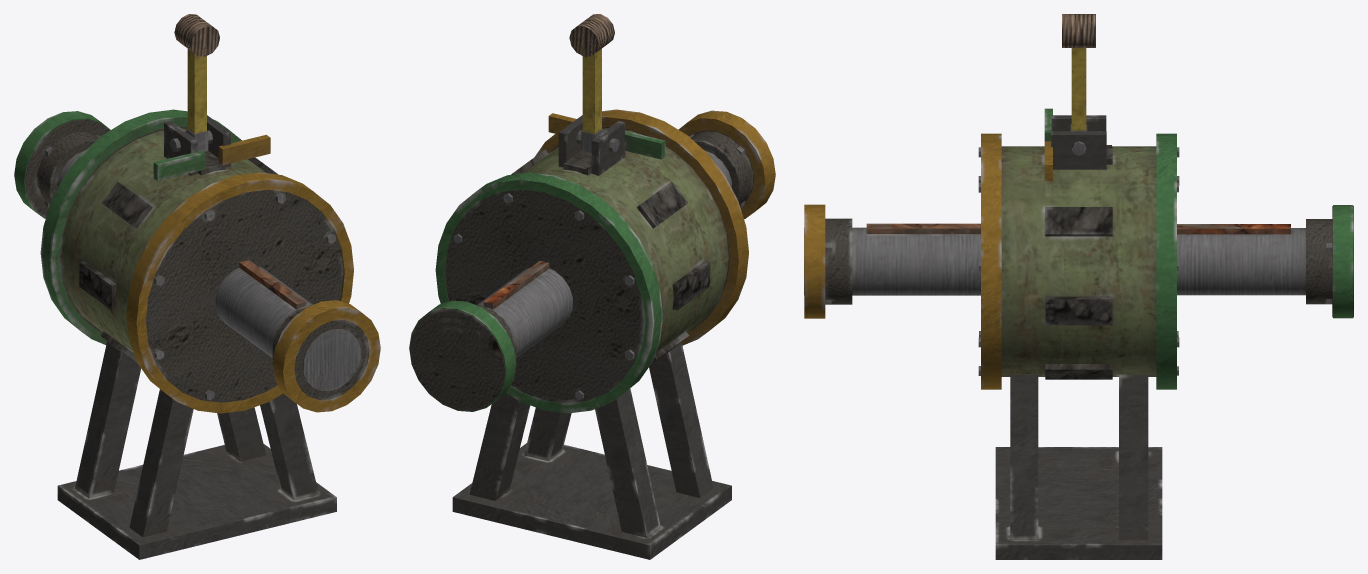
Rendered from feClutch_HD.fbx.
3 renders of one model, left to right at view 1: azimuth 30°, elevation 25°; view 2: azimuth 150°, elevation 25°; view 3: azimuth 270°, elevation 25°, orthographic.
Visible parts, largest first — view 1: feClutch_Base, FeSpinOut_Clutch, FeSpinIn_Clutch, FeLever_Clutch; view 2: feClutch_Base, FeSpinIn_Clutch, FeSpinOut_Clutch, FeLever_Clutch; view 3: feClutch_Base, FeSpinOut_Clutch, FeSpinIn_Clutch, FeLever_Clutch.
Part boxes in pixels (x1,y1,x2,y2): feClutch_Base: [40, 109, 353, 559]; FeSpinOut_Clutch: [215, 260, 380, 412]; FeSpinIn_Clutch: [14, 111, 110, 218]; FeLever_Clutch: [174, 14, 219, 151]; feClutch_Base: [435, 109, 748, 559]; FeSpinIn_Clutch: [409, 261, 572, 411]; FeSpinOut_Clutch: [678, 110, 775, 219]; FeLever_Clutch: [569, 14, 614, 153]; feClutch_Base: [978, 108, 1179, 559]; FeSpinOut_Clutch: [804, 204, 980, 318]; FeSpinIn_Clutch: [1177, 205, 1353, 318]; FeLever_Clutch: [1062, 14, 1095, 131].
Bounding box in the file's own units: 0.468 × 1 × 1.
1 material, 1 textured.
